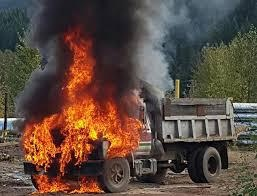fire: (16, 22, 149, 180)
